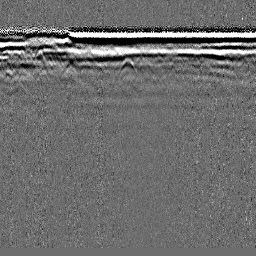cavity: (118, 57, 137, 73)
